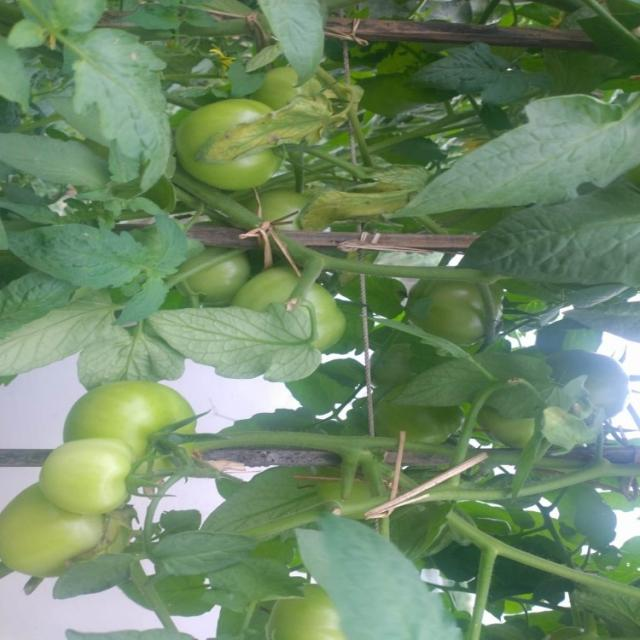tomato: (69, 375, 210, 479), (1, 477, 129, 583), (170, 96, 278, 198), (37, 428, 156, 518), (244, 271, 355, 347), (418, 272, 519, 346), (264, 577, 354, 640), (378, 401, 460, 455), (184, 253, 244, 296)
